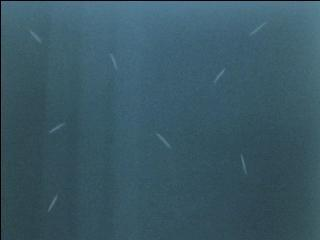scratch: (26, 27, 49, 48), (151, 130, 172, 150), (239, 149, 250, 176), (107, 51, 120, 73), (249, 21, 267, 36), (48, 120, 67, 134), (47, 192, 59, 213), (213, 67, 226, 84)
